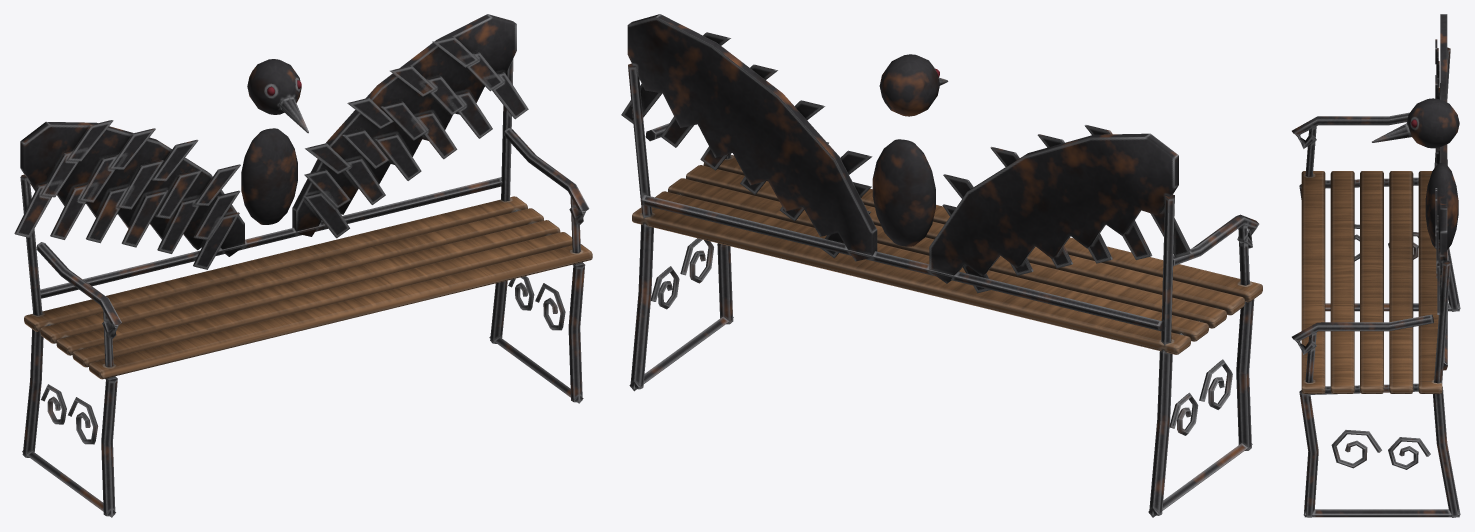
Rendered from GardenBench.fbx.
3 views of the same model, side by side, from view 1: azimuth 30°, elevation 25°; view 2: azimuth 150°, elevation 25°; view 3: azimuth 270°, elevation 25° (orthographic). The views are drawn at different scales.
Parts seen in each view (by area): view 1: GardenBench; view 2: GardenBench; view 3: GardenBench.
Part boxes in pixels (x1,y1,x2,y2): GardenBench: (14,14,592,517); GardenBench: (621,14,1262,517); GardenBench: (1292,14,1460,517).
Bounding box in the file's own units: 604 × 391 × 191.
